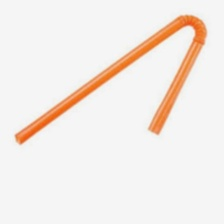drinking_straw: (9, 9, 214, 150)
